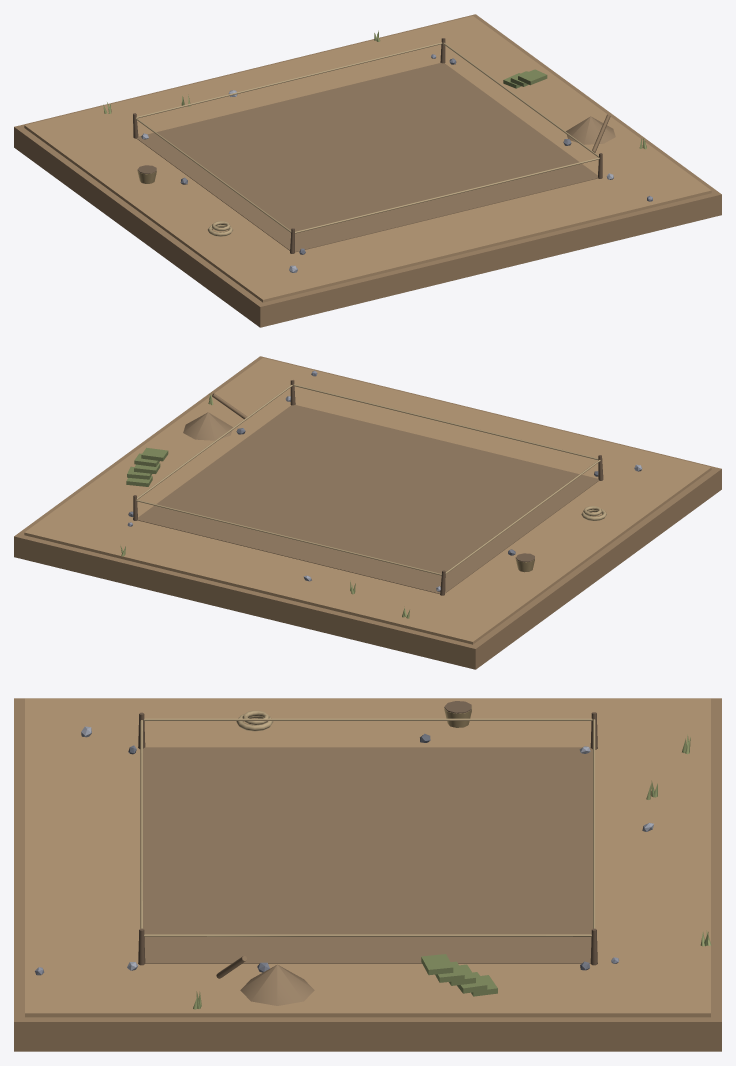
File: num-2-site.glb
3 renders of one model, top to bottom at view 1: azimuth 30°, elevation 25°; view 2: azimuth 150°, elevation 25°; view 3: azimuth 270°, elevation 25°, orthographic. The views are drawn at different scales.
Visible parts, largest first — view 1: era1; view 2: era1; view 3: era1.
Part boxes in pixels (bbox=[...]): era1: bbox=[14, 14, 721, 327]; era1: bbox=[14, 356, 721, 669]; era1: bbox=[14, 698, 721, 1051].
Bounding box in the file's own units: 21 × 2.18 × 19.4.
